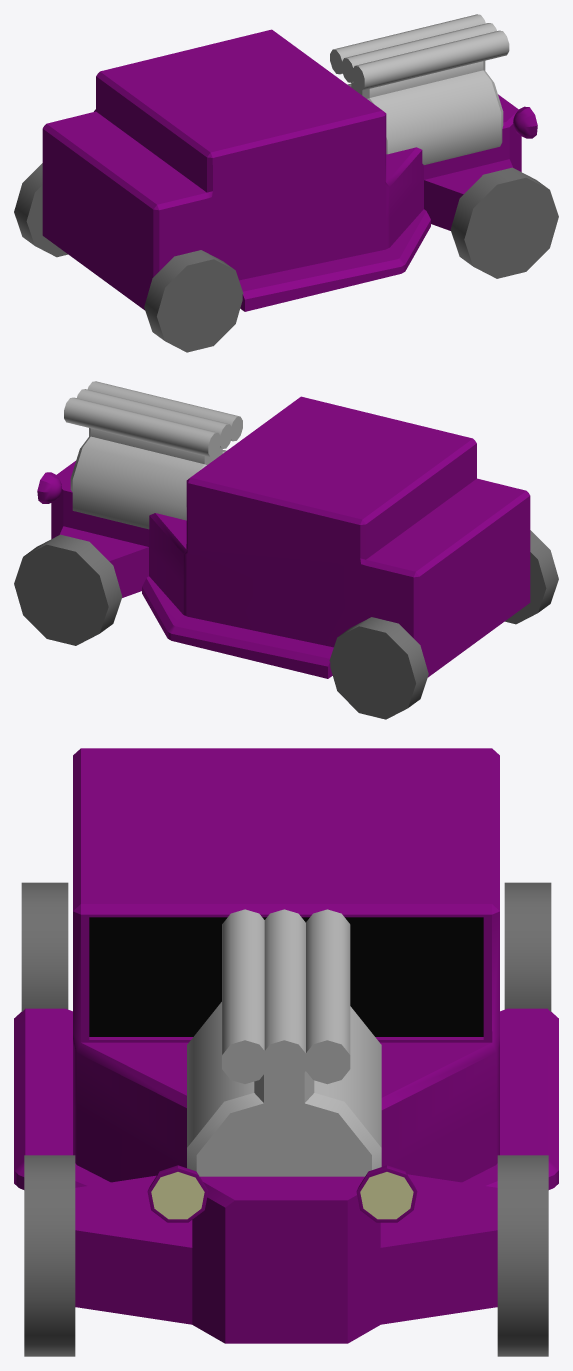
The model's file is SM_LargeCar.fbx.
3 renders of one model, top to bottom at view 1: azimuth 30°, elevation 25°; view 2: azimuth 150°, elevation 25°; view 3: azimuth 270°, elevation 25°, orthographic. The views are drawn at different scales.
Visible parts, largest first — view 1: HotRod; view 2: HotRod; view 3: HotRod.
Boxes of the visible parts, x1,y1,x2,y2 form: HotRod: (14, 14, 558, 352); HotRod: (14, 381, 558, 719); HotRod: (14, 748, 558, 1356).
Size of the model in its own units: 1.52 by 0.6509 by 0.9201.
